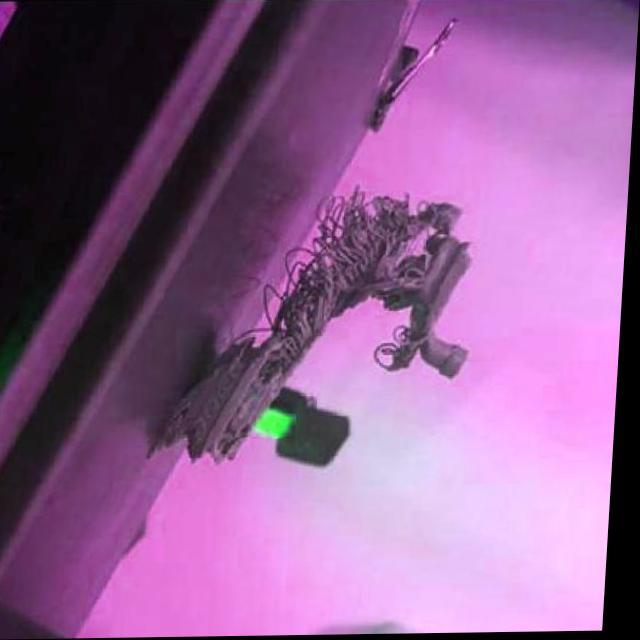spaghetti: (263, 183, 446, 374)
